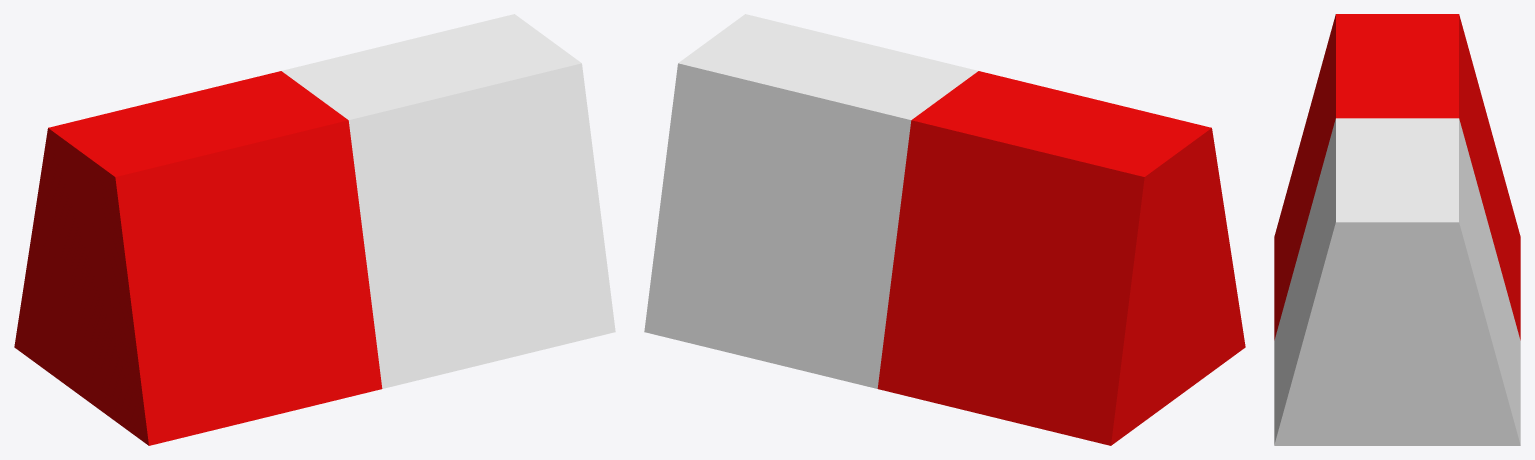
The model's file is Barrier02RedWhite.fbx.
3 views of the same model, side by side, from view 1: azimuth 30°, elevation 25°; view 2: azimuth 150°, elevation 25°; view 3: azimuth 270°, elevation 25° (orthographic). The views are drawn at different scales.
Parts seen in each view (by area): view 1: Barrier02RedWhite; view 2: Barrier02RedWhite; view 3: Barrier02RedWhite.
Boxes of the visible parts, x1,y1,x2,y2 form: Barrier02RedWhite: (14, 14, 615, 445); Barrier02RedWhite: (644, 14, 1245, 445); Barrier02RedWhite: (1274, 14, 1520, 445).
Size of the model in its own units: 4 by 2 by 2.
